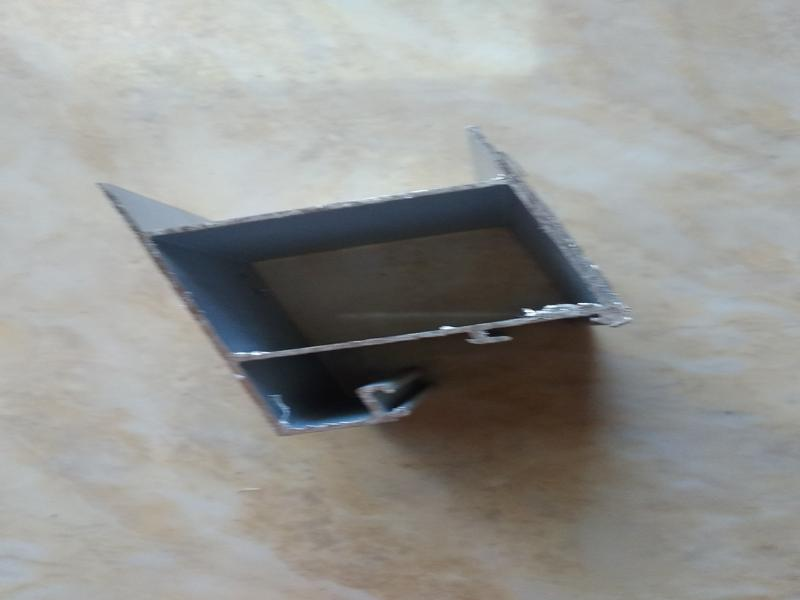Aluminium_2: (74, 98, 684, 471)
